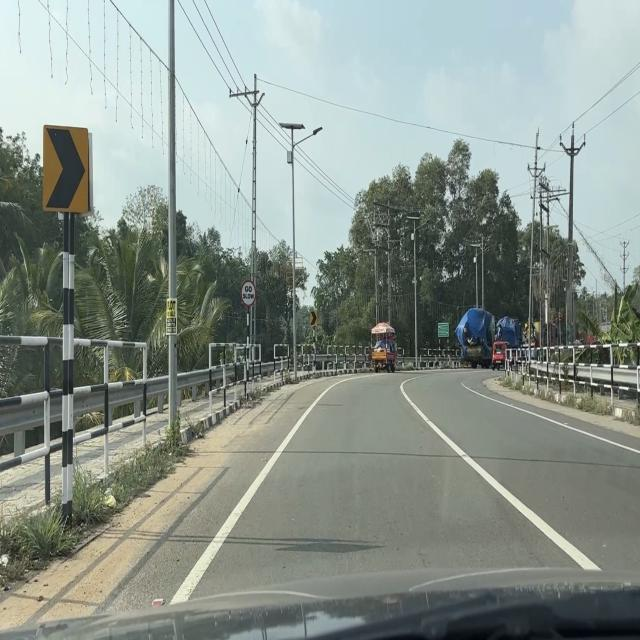GENERAL: (437, 322, 449, 338)
GO_SLOW: (240, 279, 256, 307)
TURN_RIGHT: (42, 124, 91, 215), (310, 311, 317, 326)
